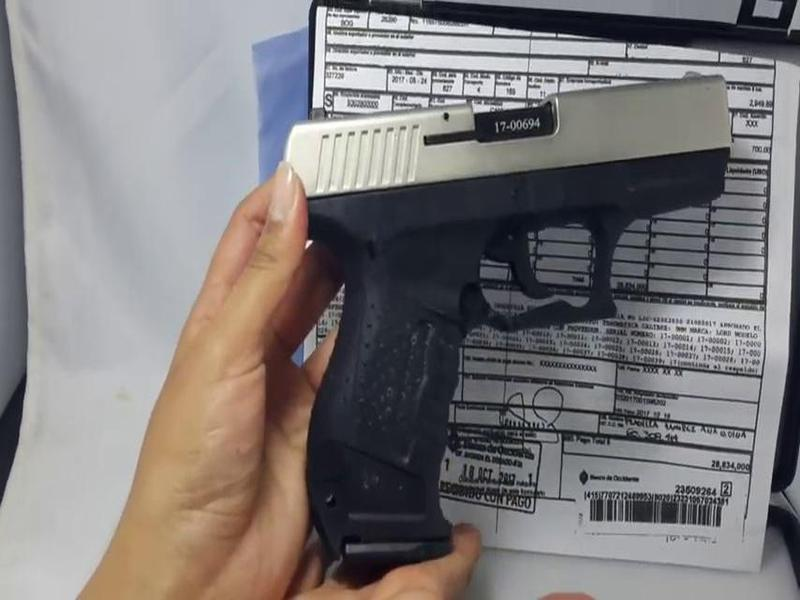Pistola: (245, 59, 751, 557)
